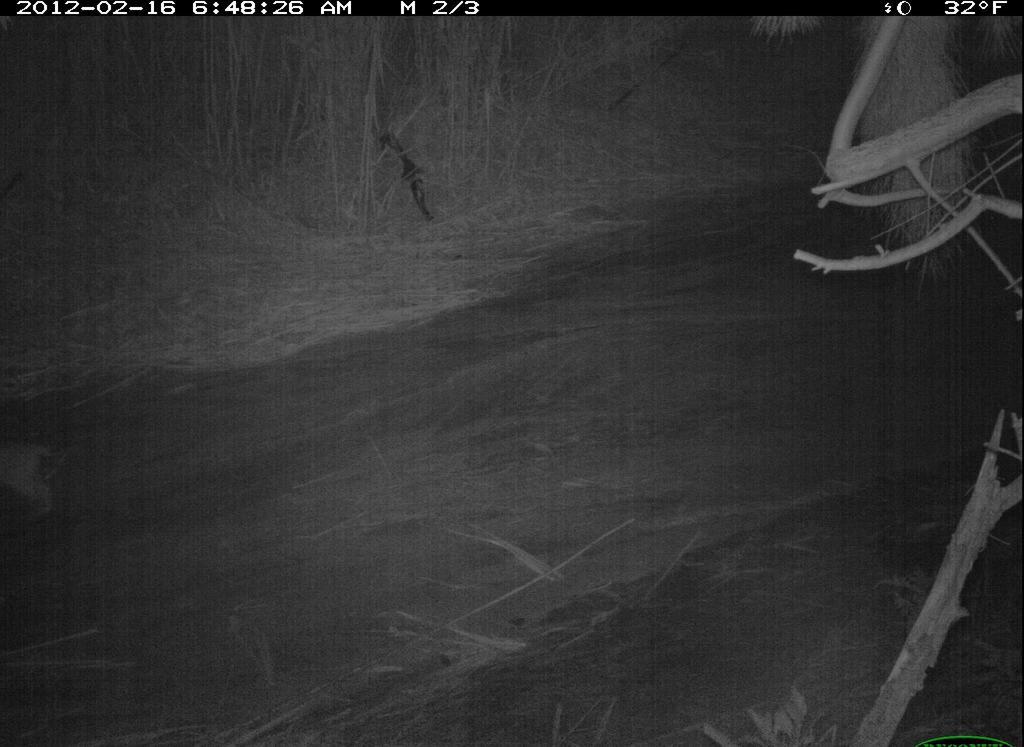bobcat: (2, 437, 71, 530)
